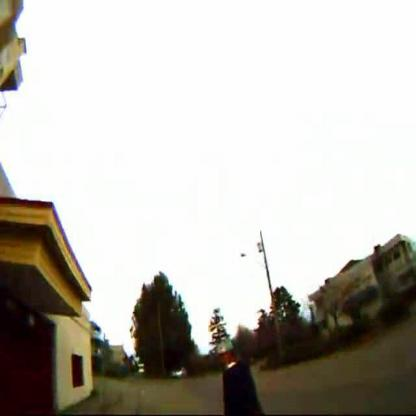other: (1, 202, 126, 337)
